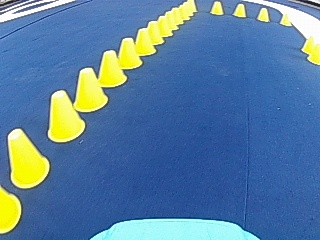cone: (7, 128, 50, 188), (46, 89, 85, 142), (72, 65, 107, 111), (96, 49, 126, 86), (1, 187, 21, 231), (116, 37, 141, 69), (134, 28, 155, 55), (139, 23, 159, 50), (145, 21, 163, 45), (156, 15, 172, 37), (166, 7, 181, 28), (300, 36, 316, 55), (307, 45, 319, 65), (171, 7, 183, 25), (209, 1, 224, 15), (165, 11, 176, 30), (232, 3, 246, 17), (256, 8, 270, 22), (178, 3, 190, 19), (279, 13, 291, 26), (186, 0, 197, 11)
